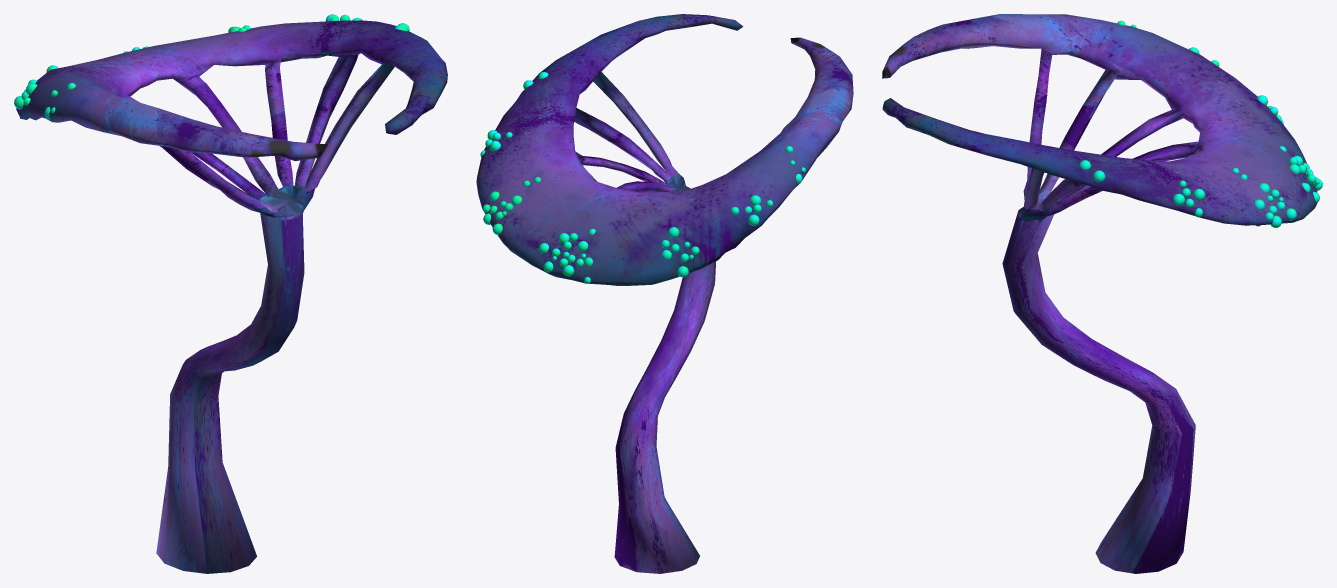
Rendered from SmallPlant.glb.
The picture shows the model from 3 angles, left to right: view 1: azimuth 30°, elevation 25°; view 2: azimuth 150°, elevation 25°; view 3: azimuth 270°, elevation 25°; orthographic projection. The views are drawn at different scales.
Parts seen in each view (by area): view 1: Cube; view 2: Cube; view 3: Cube.
Part boxes in pixels (left/top/right/bottom): Cube: left=14, top=14, right=447, bottom=573; Cube: left=476, top=14, right=853, bottom=573; Cube: left=882, top=14, right=1322, bottom=573.
Size of the model in its own units: 0.5628 by 0.82 by 0.6802.
Materials: 1 (1 with a texture image).
